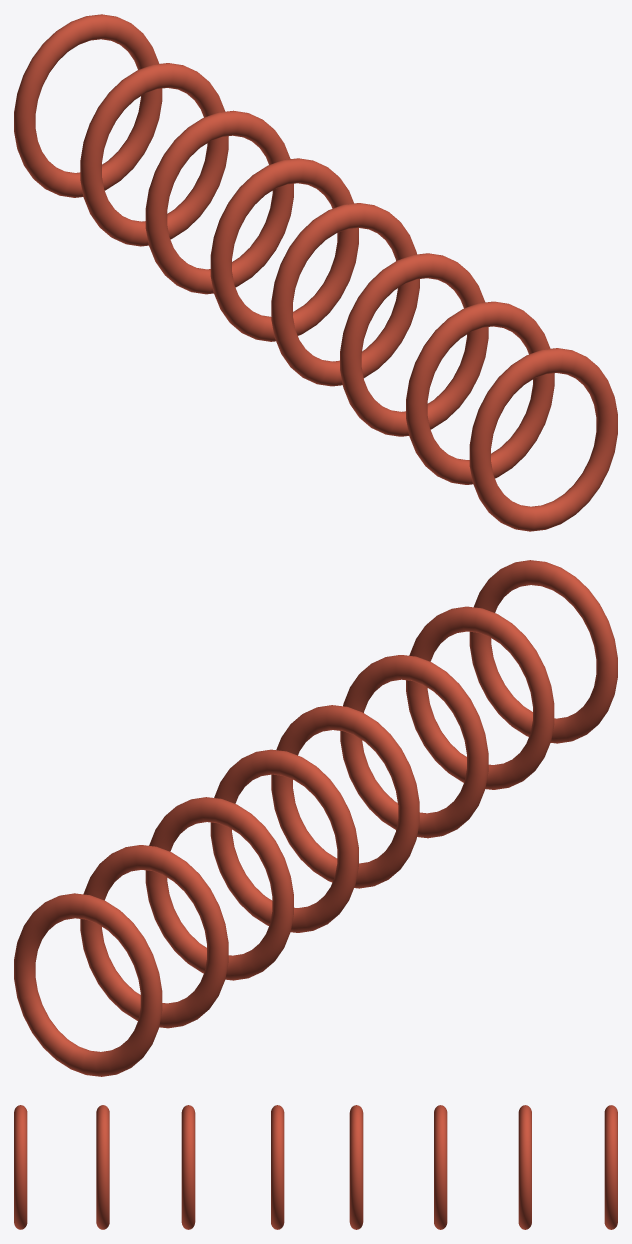
File: RecipeBook_Rings.fbx
3 views of the same model, one above another, from view 1: azimuth 30°, elevation 25°; view 2: azimuth 150°, elevation 25°; view 3: azimuth 270°, elevation 25° (orthographic). The views are drawn at different scales.
Parts seen in each view (by area): view 1: RecipeBook_Rings; view 2: RecipeBook_Rings; view 3: RecipeBook_Rings.
Part boxes in pixels (x1,y1,x2,y2): RecipeBook_Rings: (14,14,617,531); RecipeBook_Rings: (14,560,617,1076); RecipeBook_Rings: (14,1105,617,1229).
Bounding box in the file's own units: 0.772 × 0.9033 × 4.27.
Materials: 1 (1 with a texture image).
